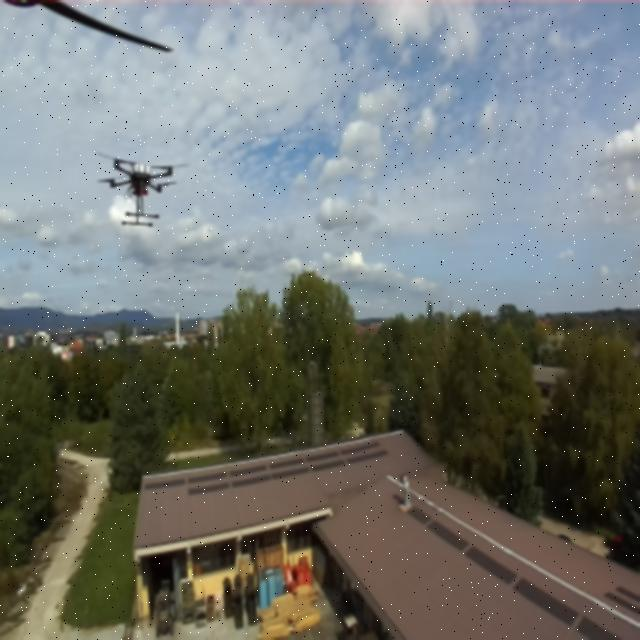UAV: (96, 147, 184, 229)
